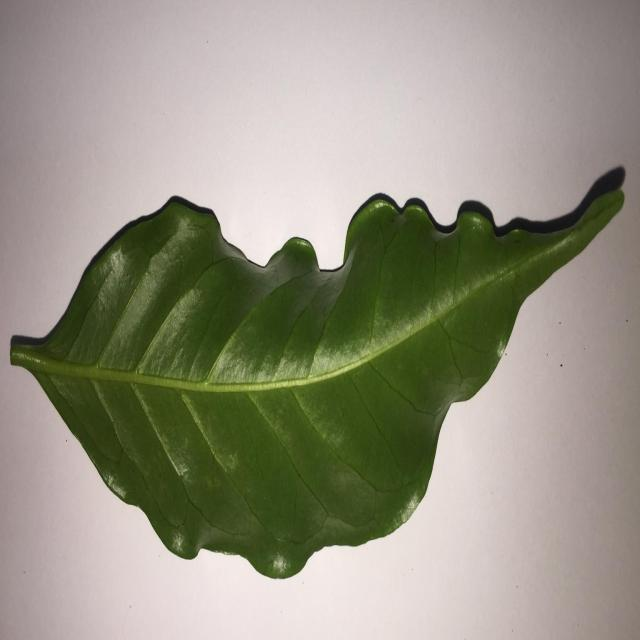nodisease: (10, 168, 625, 578)
